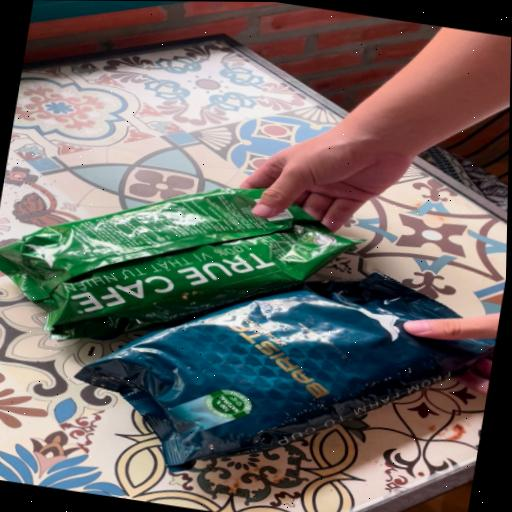cafe_hat: (76, 273, 496, 471)
cafe_xay: (0, 188, 360, 339)
